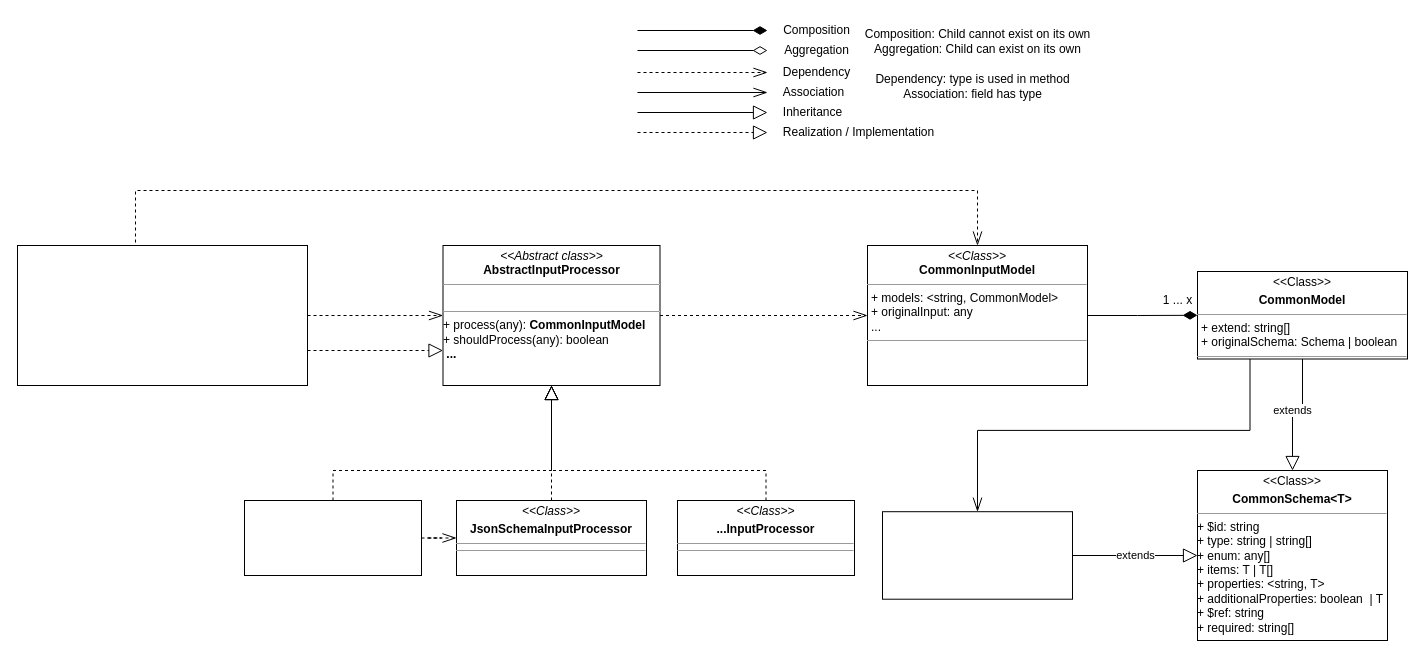
Some shapes in this 1425 by 658 pixel diagram are drawn without their labels. The centre of each missing label's shape, as x and y in pixels:
<<Class>> AsyncAPIInputProcessor: (x=333, y=538)
<<Class>> InputProcessor processors: Map<string, AbstractInputProcessor> ...: (x=162, y=315)
<<JSON Schema Draft 7>> Schema ... The rest of the JSON Schema keywords: (x=977, y=555)
